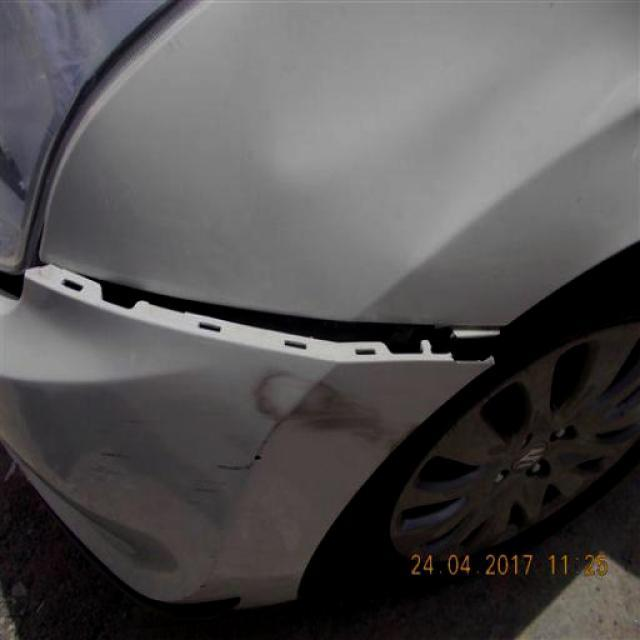car damage: (21, 251, 508, 364), (253, 367, 421, 452)
